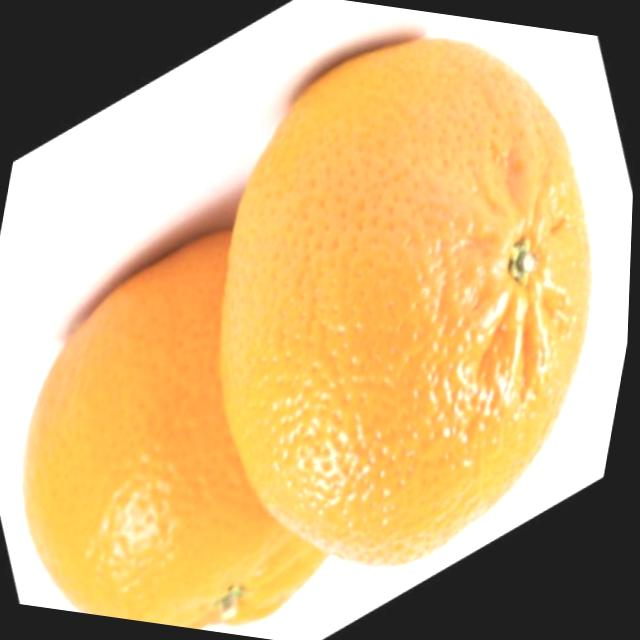Orange: (179, 14, 638, 594), (0, 205, 387, 640)
